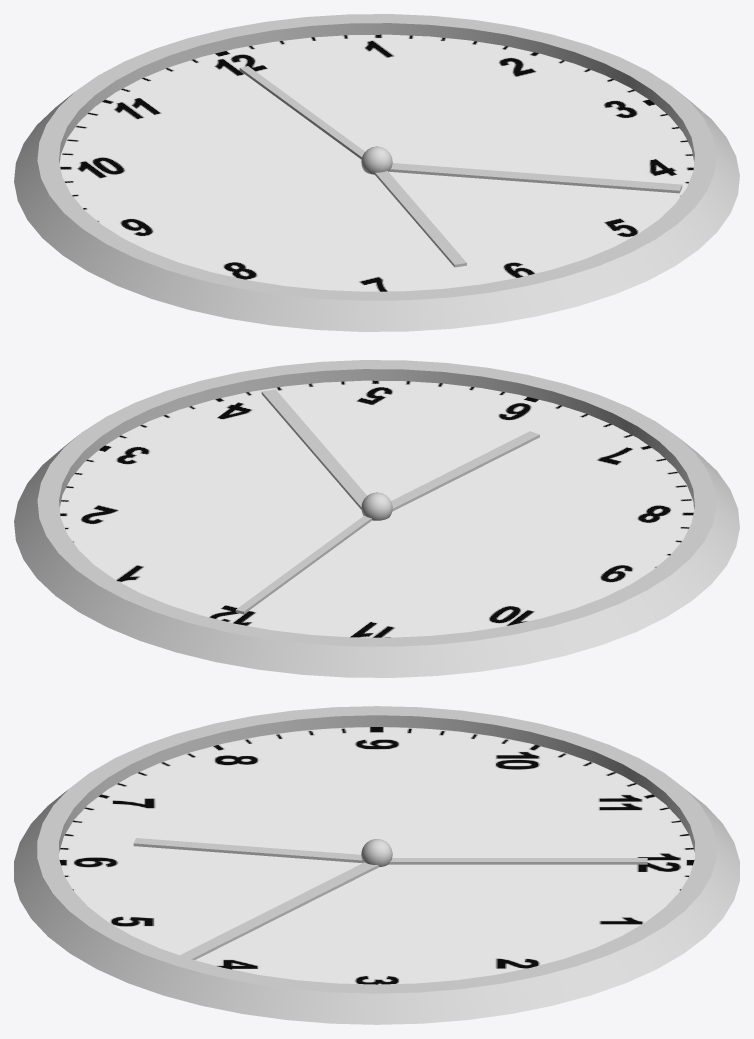
The model's file is Oclock.FBX.
3 views of the same model, one above another, from view 1: azimuth 30°, elevation 25°; view 2: azimuth 150°, elevation 25°; view 3: azimuth 270°, elevation 25° (orthographic).
Visible parts, largest first — view 1: Cylinder001, Black (×2), Red; view 2: Cylinder001, Black (×2), Red; view 3: Cylinder001, Black (×2), Red.
Boxes of the visible parts, x1=… form: Cylinder001: x1=59, y1=34, x2=694, y2=291; Black (×2): x1=14, y1=14, x2=739, y2=331; Red: x1=374, y1=171, x2=466, y2=267; Cylinder001: x1=59, y1=380, x2=694, y2=637; Black (×2): x1=14, y1=360, x2=739, y2=677; Red: x1=391, y1=431, x2=539, y2=511; Cylinder001: x1=59, y1=727, x2=694, y2=984; Black (×2): x1=14, y1=706, x2=739, y2=1024; Red: x1=133, y1=838, x2=363, y2=862.
Size of the model in its own units: 119 by 5.58 by 119.
1 material, 1 textured.
